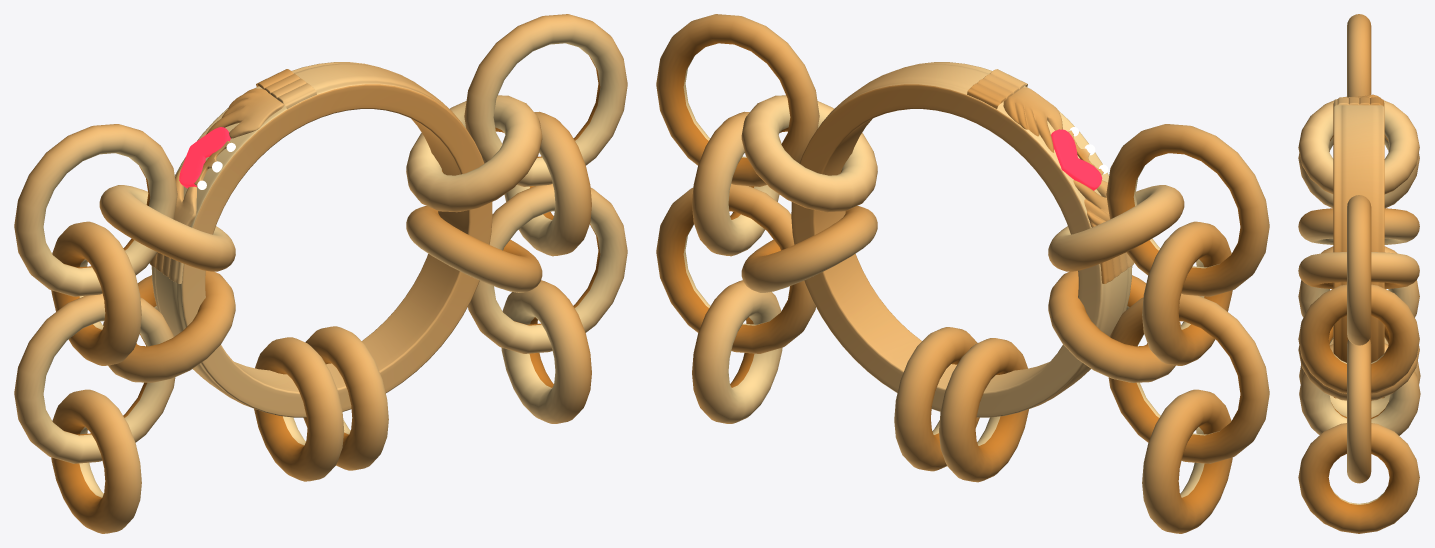
The model's file is hashigo_r_b.fbx.
The picture shows the model from 3 angles, left to right: view 1: azimuth 30°, elevation 25°; view 2: azimuth 150°, elevation 25°; view 3: azimuth 270°, elevation 25°; orthographic projection. The views are drawn at different scales.
Visible parts, largest first — view 1: polySurface3; view 2: polySurface3; view 3: polySurface3.
Part boxes in pixels (x1,y1,x2,y2): polySurface3: (14, 14, 627, 533); polySurface3: (656, 14, 1269, 533); polySurface3: (1298, 14, 1420, 533).
Size of the model in its own units: 19.09 by 12.02 by 4.02.
